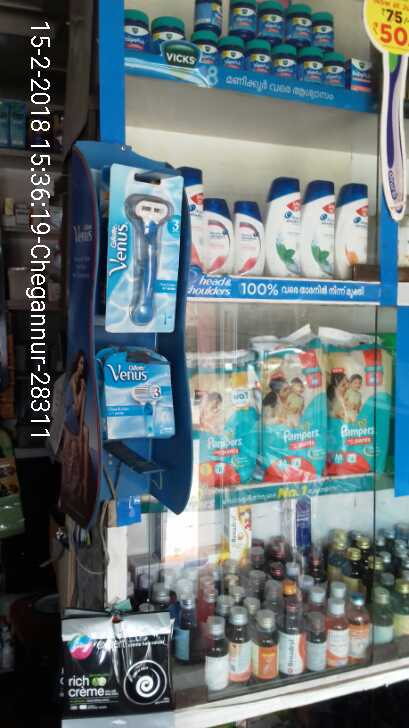beauty: (108, 180, 182, 332), (99, 350, 174, 439), (265, 173, 302, 281), (301, 178, 334, 281), (339, 180, 373, 276), (235, 197, 269, 276), (204, 194, 234, 272)
pharmacy: (261, 339, 326, 484), (325, 347, 396, 475), (197, 341, 255, 487), (193, 18, 235, 59), (346, 55, 378, 95), (122, 10, 150, 54), (272, 38, 299, 83), (312, 3, 338, 46), (301, 51, 327, 85), (219, 35, 244, 70), (248, 38, 270, 76), (287, 7, 311, 40), (328, 53, 346, 94), (236, 2, 250, 28)
